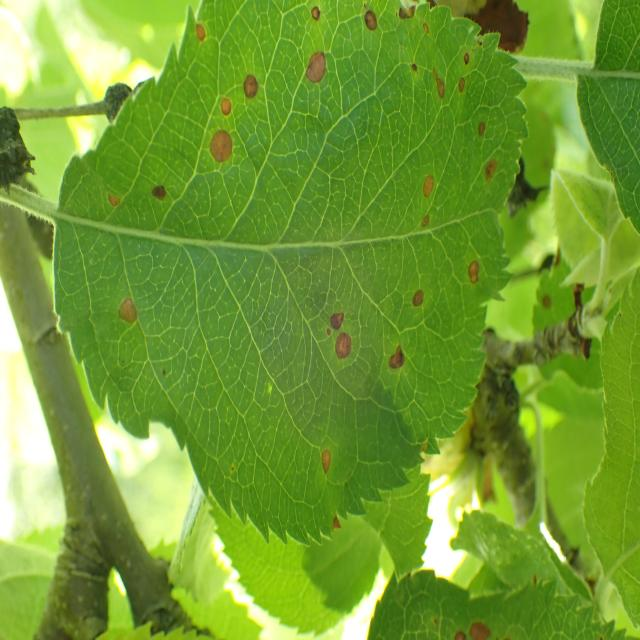frog-eye-leaf-spot: (54, 2, 528, 550), (366, 569, 628, 640)
